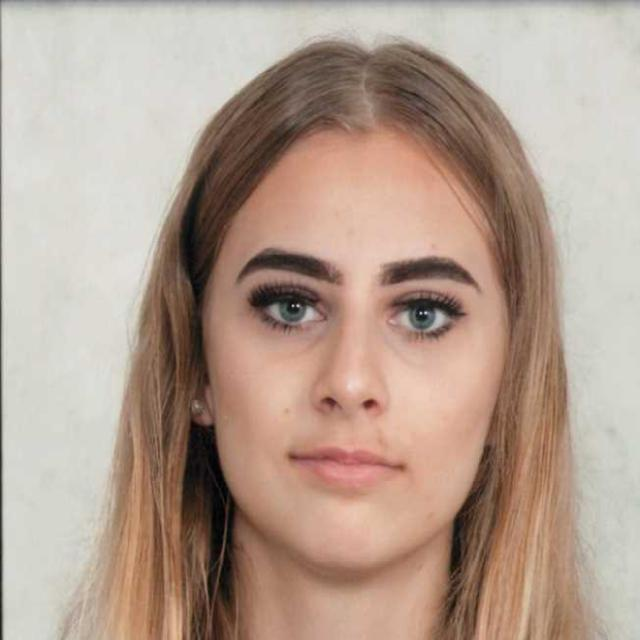mobile_phonerotation: (33, 32, 636, 639)
